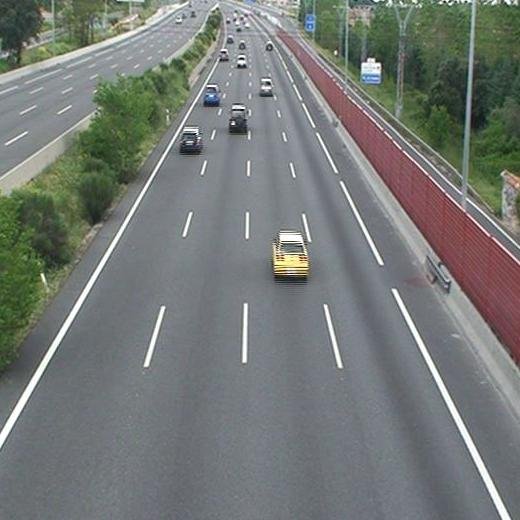car: (271, 232, 309, 276), (180, 128, 203, 150), (229, 105, 246, 129), (203, 85, 220, 105), (259, 79, 274, 95), (237, 55, 247, 67), (219, 50, 229, 60), (265, 42, 273, 52), (238, 40, 245, 48), (226, 36, 232, 43)
